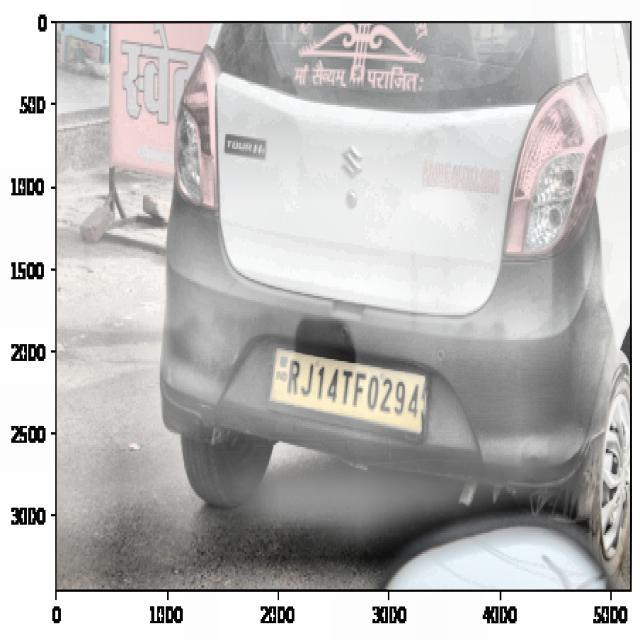license_plate: (284, 349, 427, 434)
